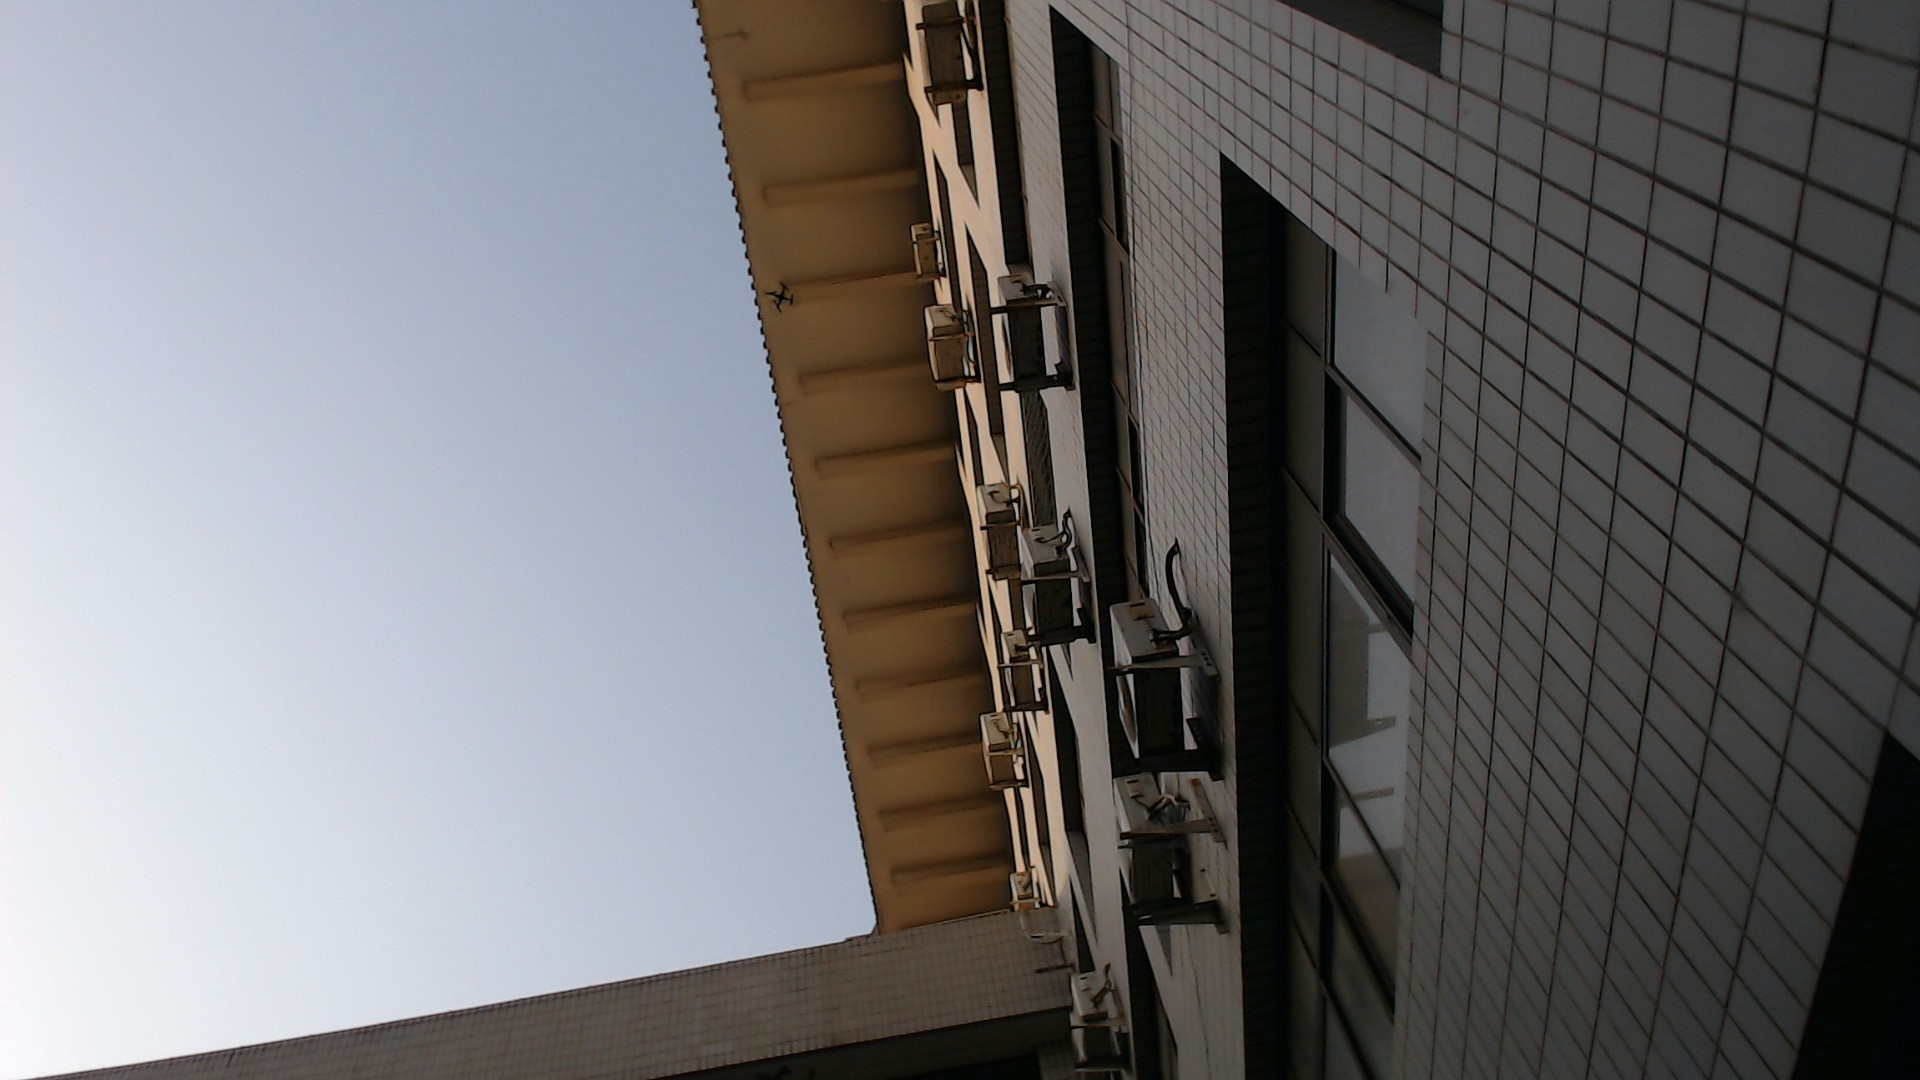drone: (757, 277, 804, 320)
